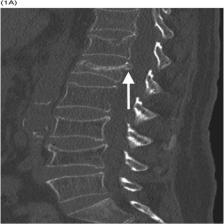compression-crush-fracture: (2, 9, 224, 224)
